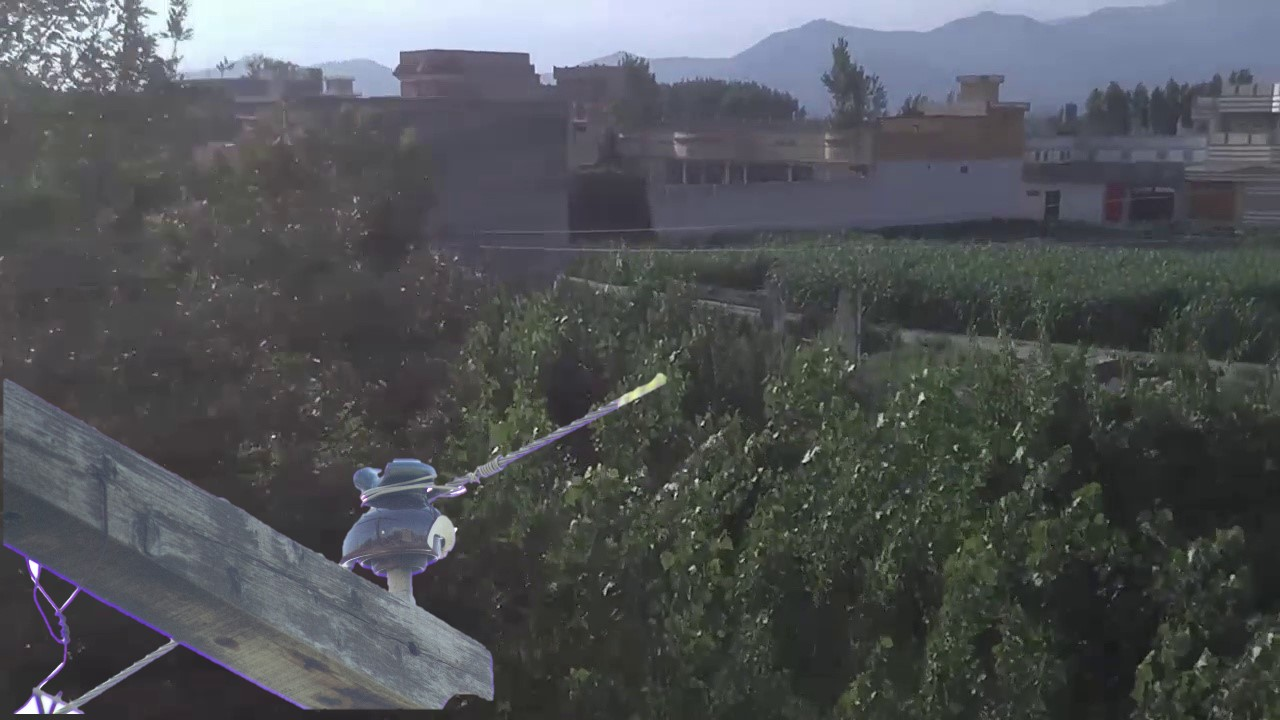defect_pin: (336, 450, 464, 586)
